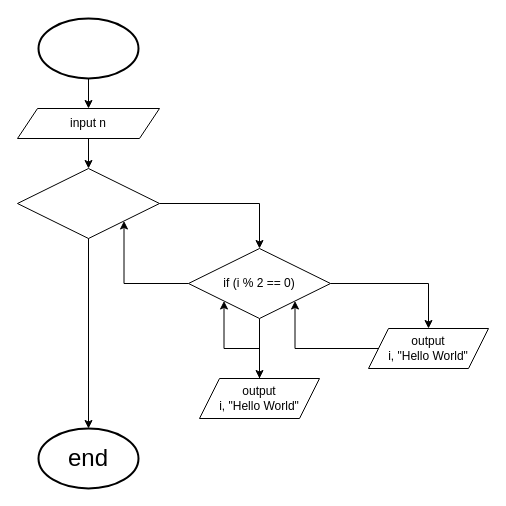
The diagram is 506 pixels wide and 506 high, and some of its shapes have lost their labels. The shapes that lost their labels are listed below. From the top down, each one's centre as x and y in pixels, then its label:
the point at 88,48: start
the point at 88,203: for i = 1, i <= n, i++
